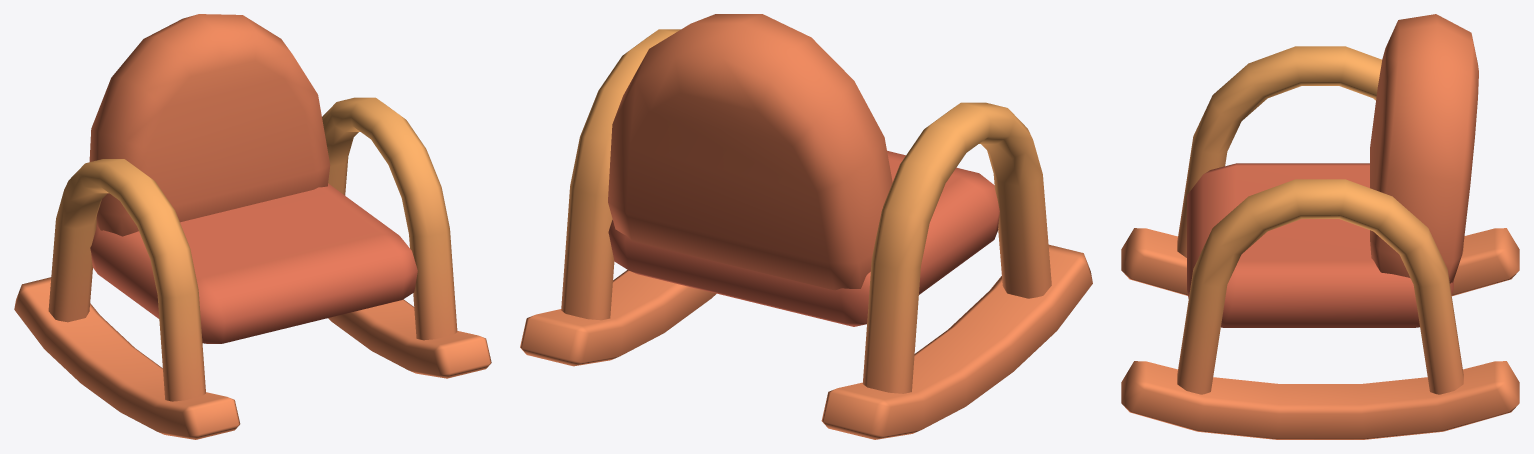
File: Furniture_Chair_05.fbx
The picture shows the model from 3 angles, left to right: view 1: azimuth 30°, elevation 25°; view 2: azimuth 150°, elevation 25°; view 3: azimuth 270°, elevation 25°; orthographic projection. The views are drawn at different scales.
Visible parts, largest first — view 1: Furniture_Chair_05; view 2: Furniture_Chair_05; view 3: Furniture_Chair_05.
Boxes of the visible parts, box(x1,y1,x2,y2) form: Furniture_Chair_05: box(14, 14, 491, 439); Furniture_Chair_05: box(520, 14, 1092, 439); Furniture_Chair_05: box(1121, 14, 1519, 439).
Bounding box in the file's own units: 143 × 140 × 149.
